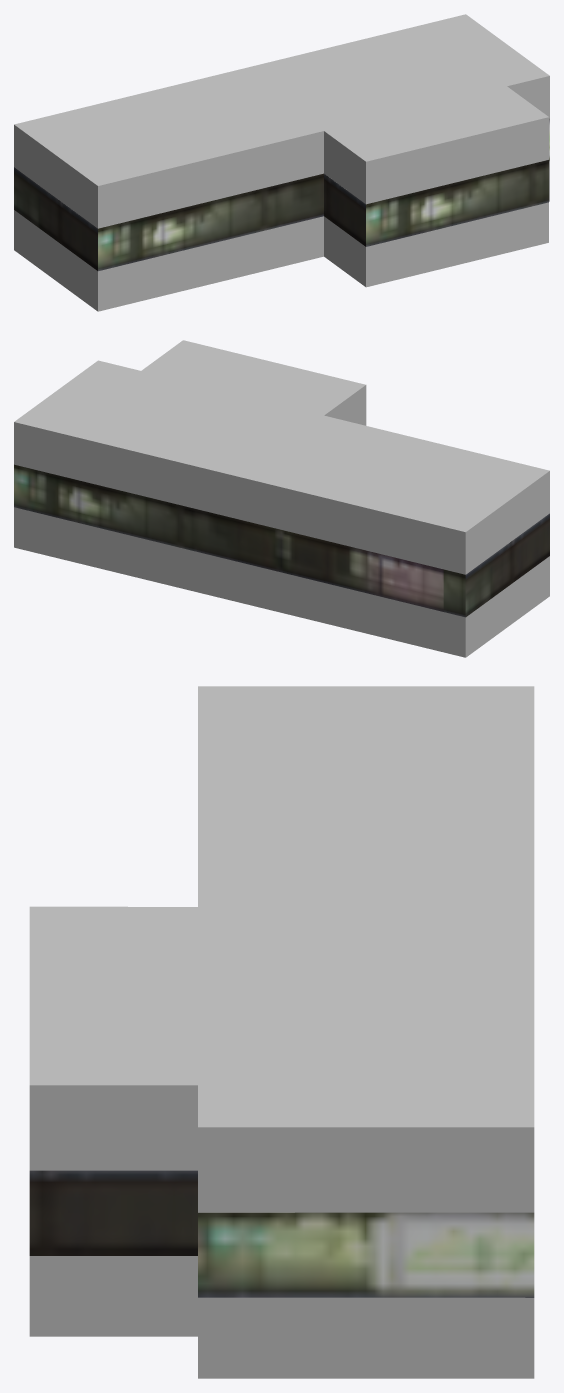
The model's file is hirise_parts06_1f.fbx.
3 views of the same model, one above another, from view 1: azimuth 30°, elevation 25°; view 2: azimuth 150°, elevation 25°; view 3: azimuth 270°, elevation 25° (orthographic). The views are drawn at different scales.
Visible parts, largest first — view 1: hirise_parts06_1f; view 2: hirise_parts06_1f; view 3: hirise_parts06_1f.
Boxes of the visible parts, x1,y1,x2,y2 form: hirise_parts06_1f: [14, 14, 549, 311]; hirise_parts06_1f: [14, 340, 549, 657]; hirise_parts06_1f: [29, 686, 534, 1378].
Size of the model in its own units: 17.68 by 4.7 by 8.55.
